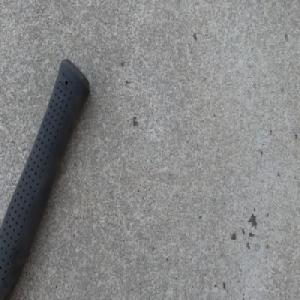Hammer: (0, 54, 92, 300)
